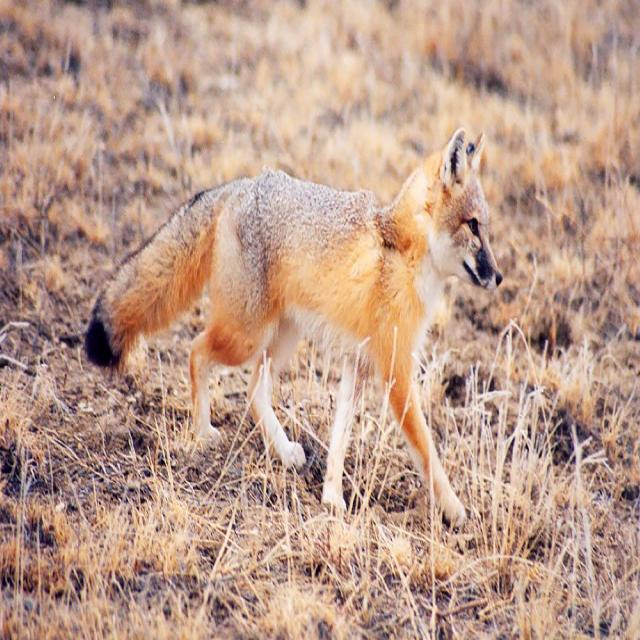fox: (86, 128, 502, 524)
